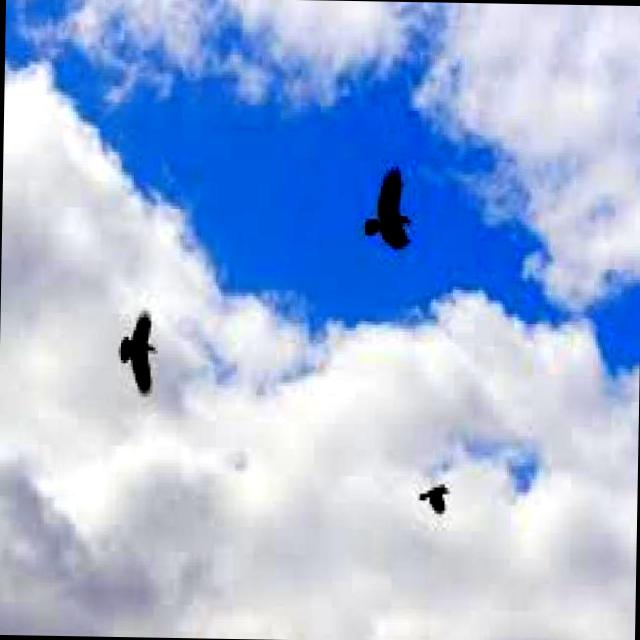bird: (362, 161, 421, 261), (115, 306, 164, 396), (417, 476, 458, 519)
